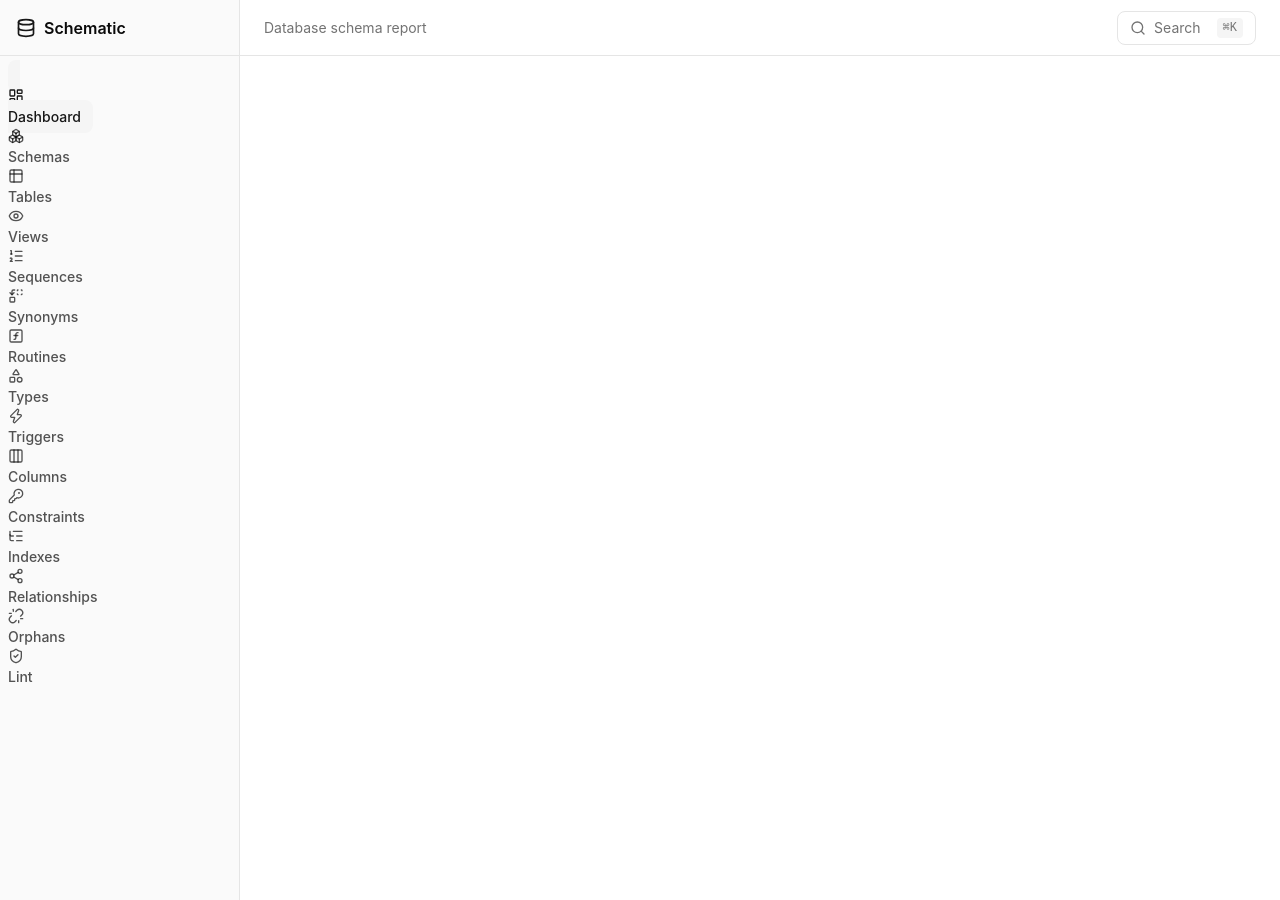
RootLayout › opens the search palette from the header button
The image size is (1280, 900).
Click the button with aria-label "Search schema" at (1187, 28), box [1117,10,1256,44]
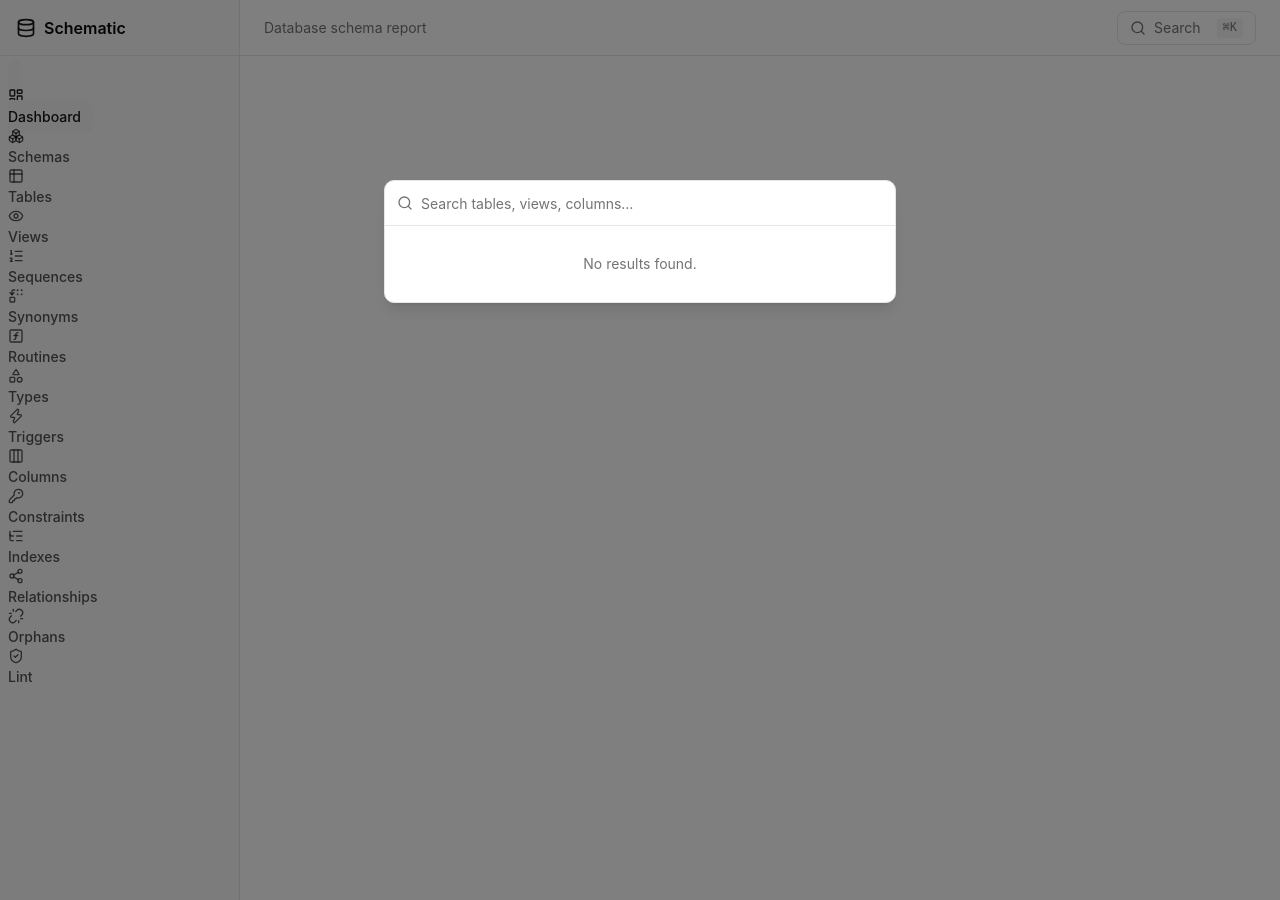
Expected: the dialog is shown, [384,180,896,303]
